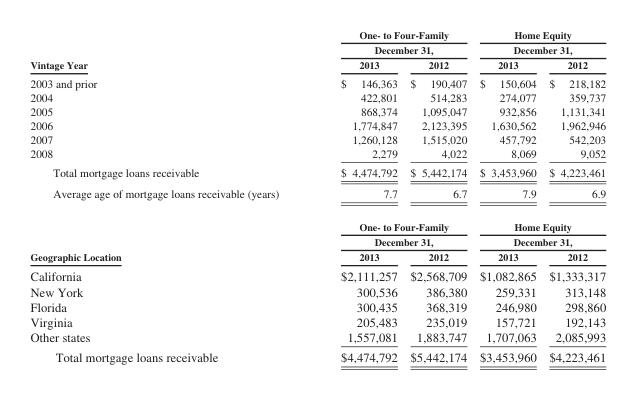table: (29, 28, 605, 363)
table column: (29, 28, 309, 363), (309, 28, 403, 363), (472, 28, 542, 363), (403, 28, 472, 363), (542, 28, 605, 363)
table column header: (29, 28, 605, 73)
table row: (29, 28, 605, 57), (29, 182, 605, 210), (29, 210, 605, 233), (29, 162, 605, 182), (29, 265, 605, 283), (29, 73, 605, 90), (29, 145, 605, 162), (29, 329, 605, 346), (29, 346, 605, 363), (29, 57, 605, 73), (29, 233, 605, 249), (29, 249, 605, 265), (29, 313, 605, 329), (29, 283, 605, 298), (29, 298, 605, 313), (29, 90, 605, 104), (29, 104, 605, 118), (29, 131, 605, 145), (29, 118, 605, 131)
table spanning cell: (29, 28, 309, 73), (309, 28, 472, 57), (472, 28, 605, 57), (309, 210, 472, 233), (472, 210, 605, 233), (309, 233, 472, 249), (472, 233, 605, 249)
